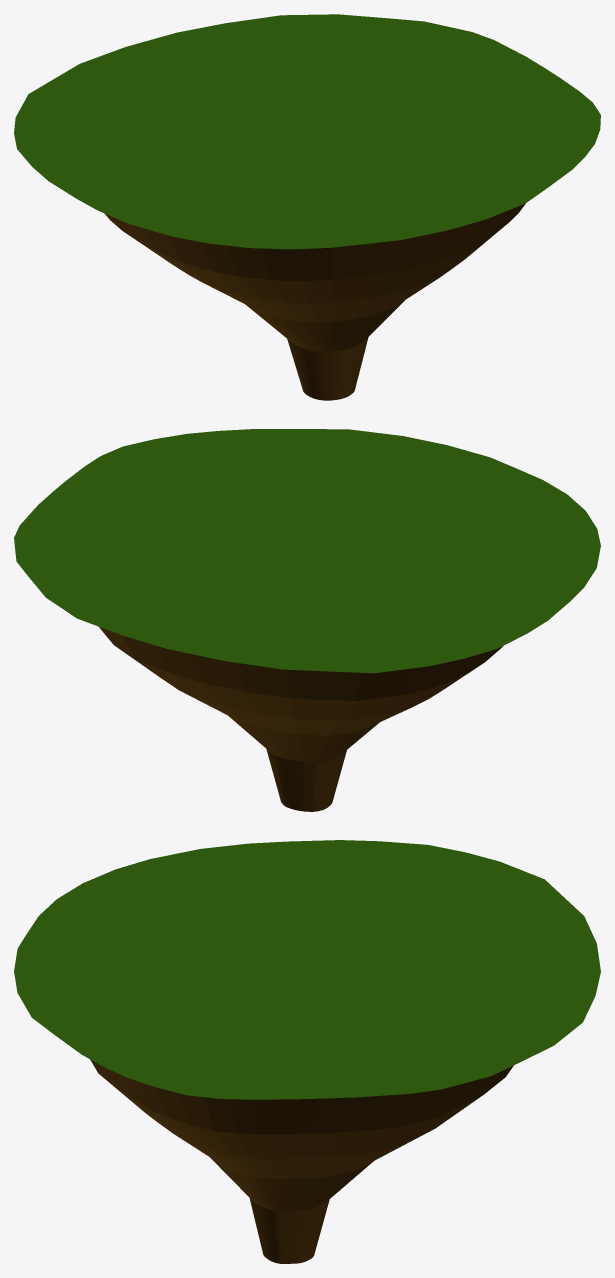
File: Sky_Island๘_Circle01.fbx
3 renders of one model, top to bottom at view 1: azimuth 30°, elevation 25°; view 2: azimuth 150°, elevation 25°; view 3: azimuth 270°, elevation 25°, orthographic. The views are drawn at different scales.
Visible parts, largest first — view 1: Vert.001, Vert; view 2: Vert.001, Vert; view 3: Vert.001, Vert.
Part boxes in pixels (x1,y1,x2,y2): Vert.001: (14,14,600,249); Vert: (104,203,525,400); Vert.001: (14,429,600,673); Vert: (99,627,502,811); Vert.001: (14,840,600,1099); Vert: (90,1059,513,1263).
Bounding box in the file's own units: 2822 × 1400 × 2696.
